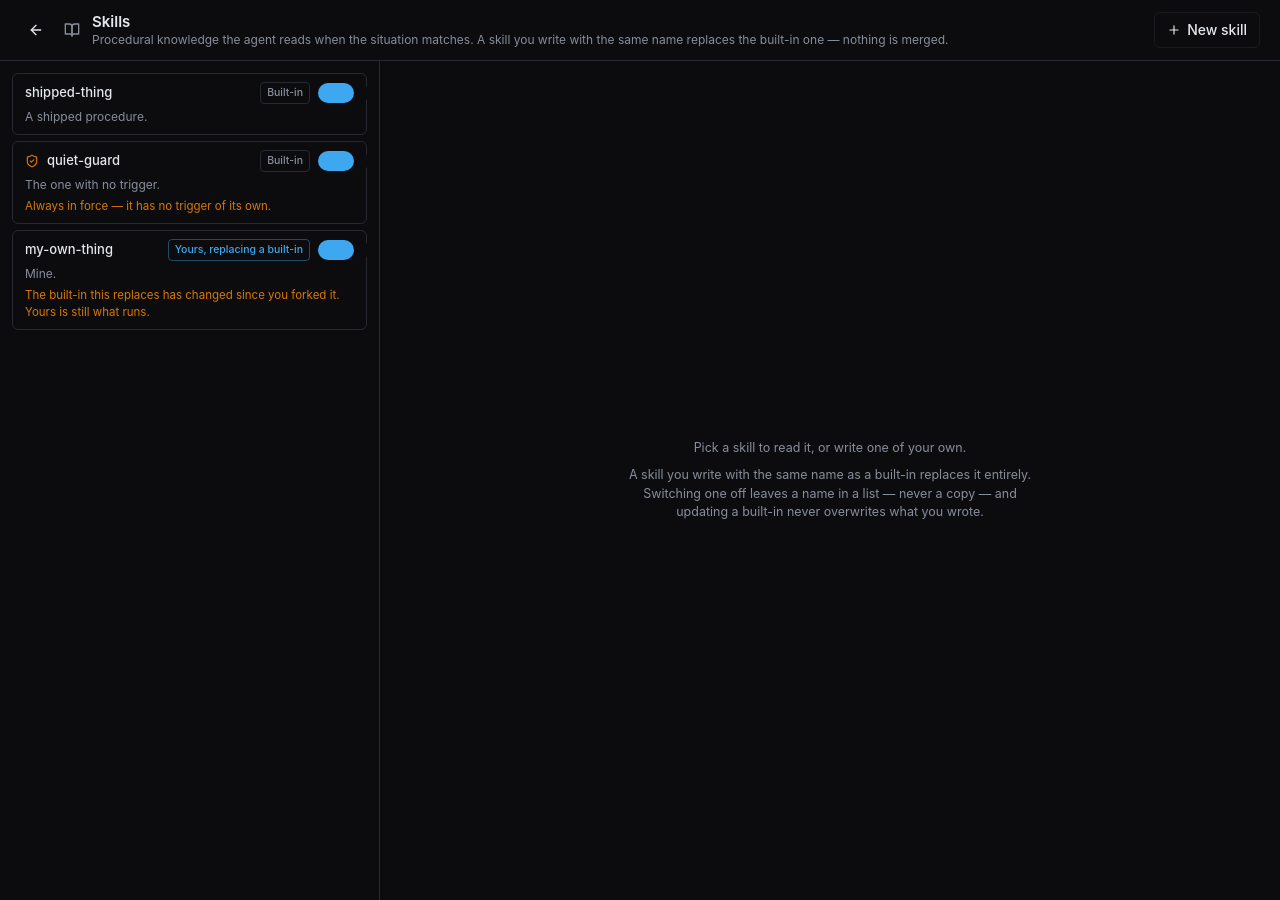
Test: the Skills page › refuses to save something that is not a skill file
Click the button "New skill".
click(1207, 30)  # box [1154, 12, 1260, 48]
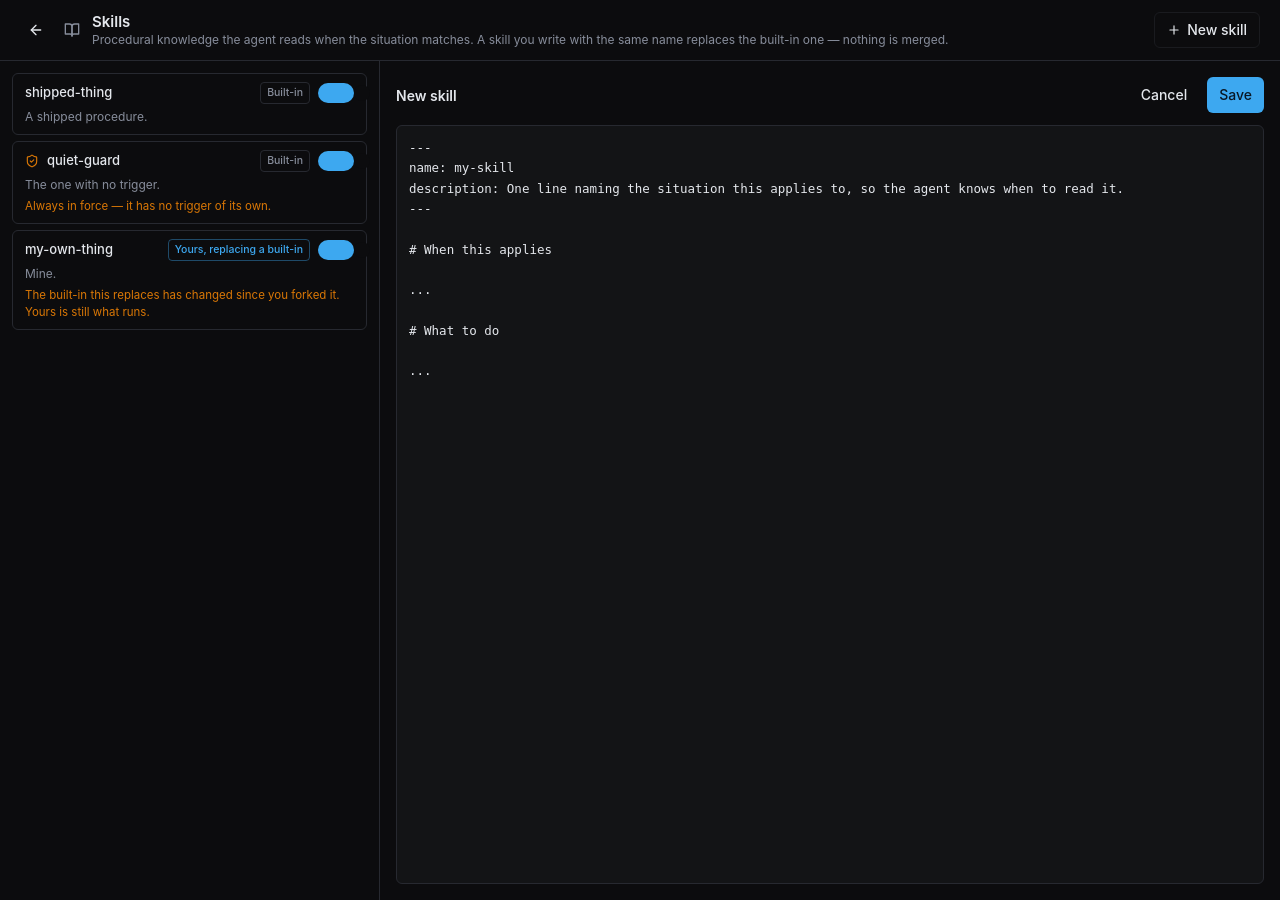
Replace the text in the text box named "Skill text" with "just prose" at (830, 504), box [396, 125, 1264, 884]
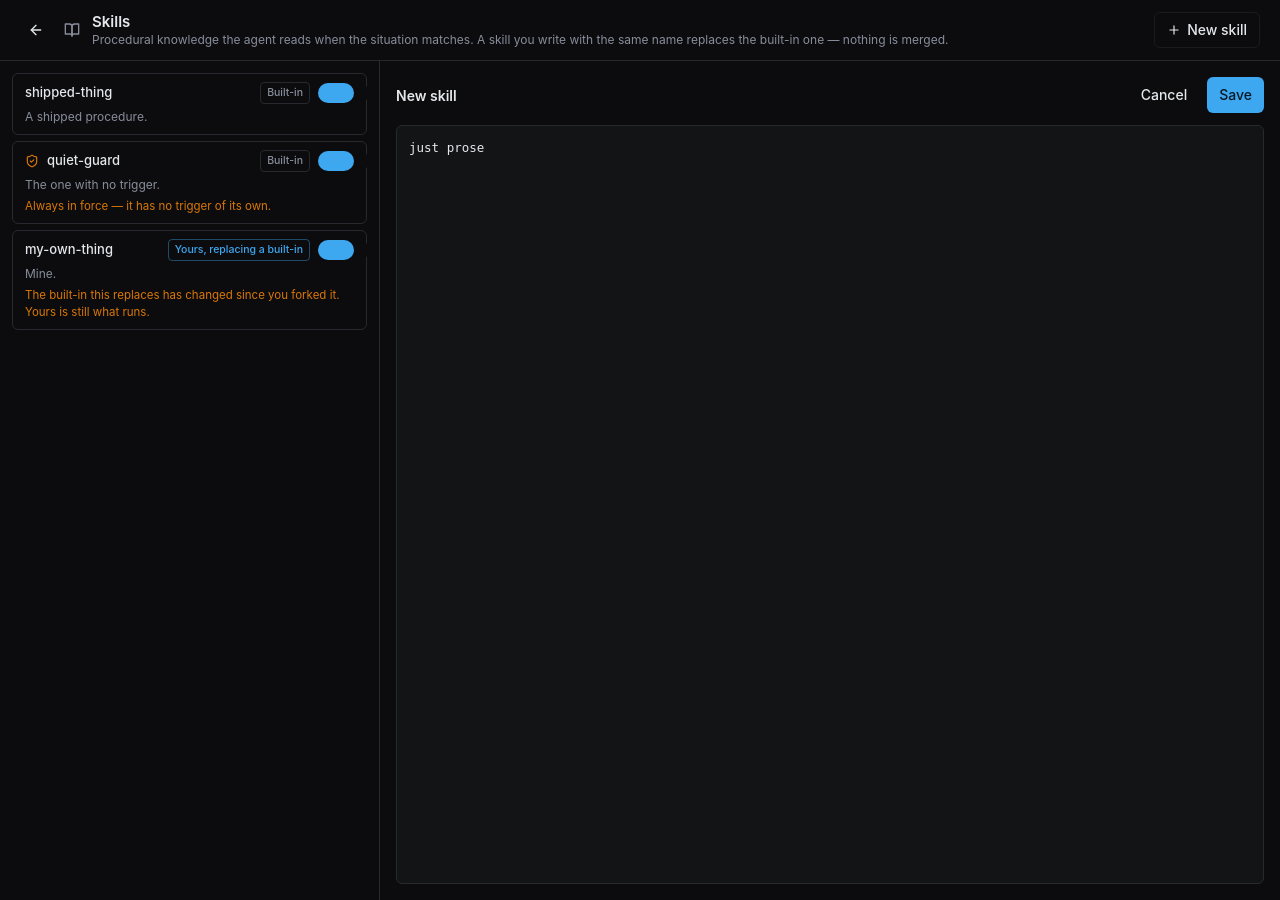
Click the button "Save".
click(1236, 95)  # box [1207, 77, 1264, 113]
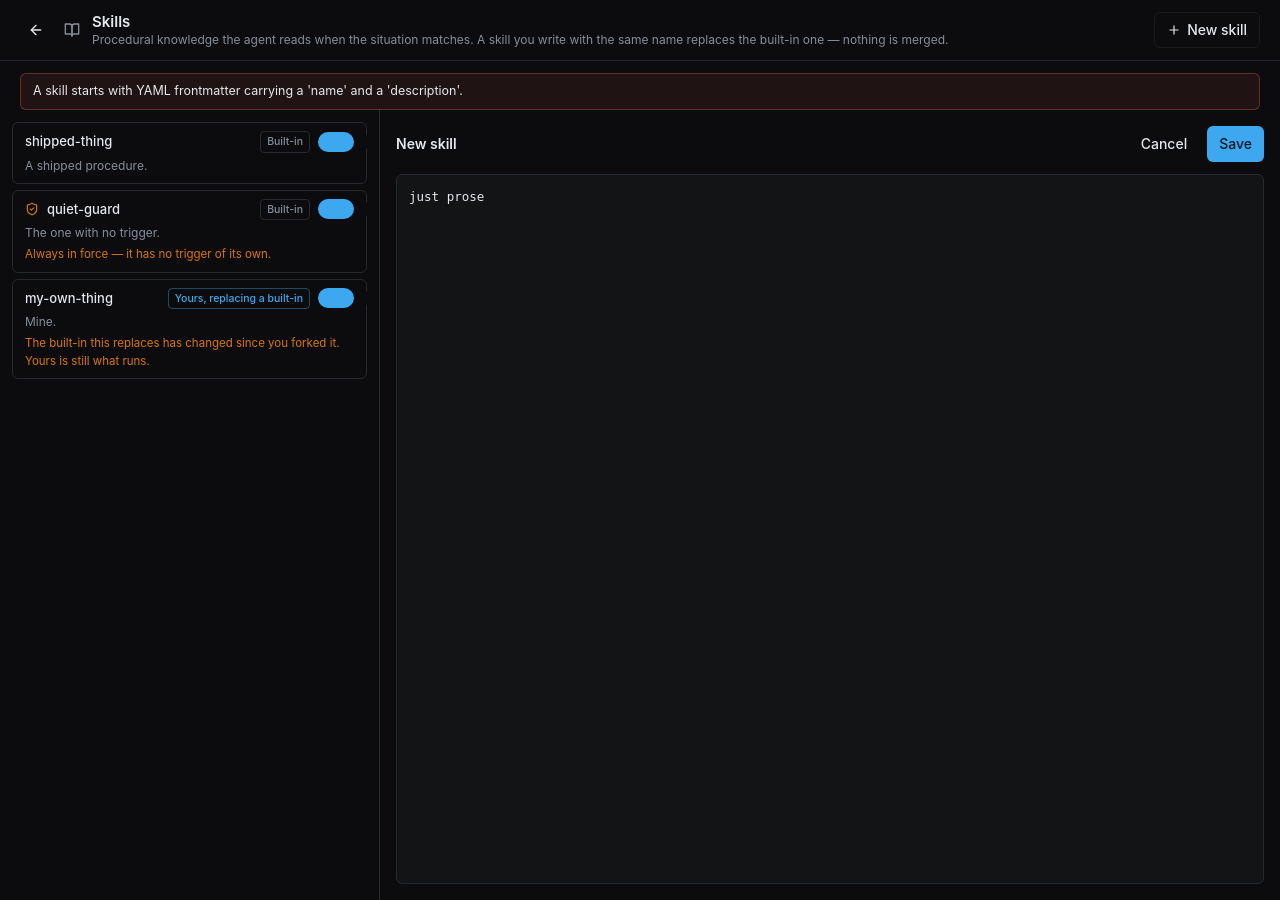
Expected: the message "A skill starts with YAML frontmatter carrying a 'name' and a 'description'." is shown, [20, 73, 1260, 110]
